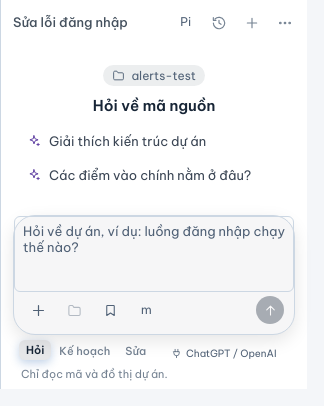
Scenario: lỗi provider trong chat › ngữ cảnh vượt cửa sổ: câu hướng dẫn tăng context window
Type "hỏi gì đó" into the text box.
click(154, 254); type("hỏi gì đó")  # box [14,216,294,292]
Then press Enter
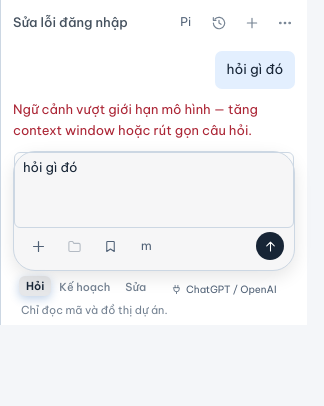
expect the button named "Gửi" is shown: met, box [256,232,284,260]
expect the text "Ngữ cảnh vượt giới hạn mô hình" is shown: met, box [13,101,258,138]
